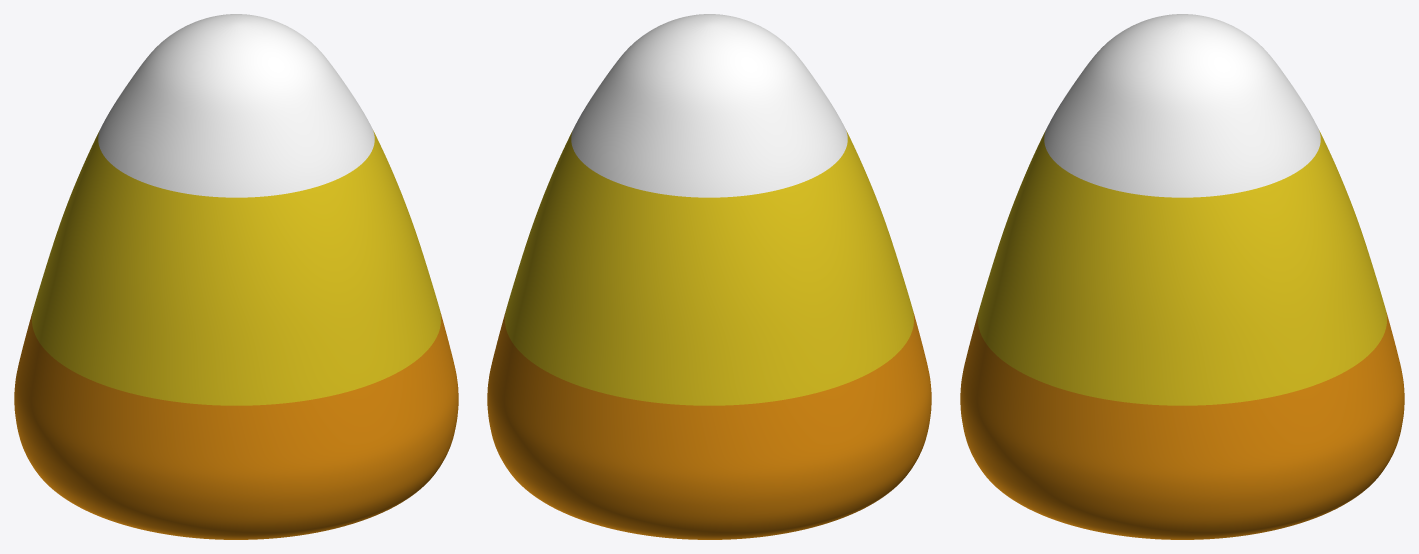
Rendered from BalitaDulce.fbx.
3 views of the same model, side by side, from view 1: azimuth 30°, elevation 25°; view 2: azimuth 150°, elevation 25°; view 3: azimuth 270°, elevation 25° (orthographic).
Parts seen in each view (by area): view 1: Cylinder; view 2: Cylinder; view 3: Cylinder.
Part boxes in pixels (bbox=[...]): Cylinder: bbox=[14, 14, 458, 539]; Cylinder: bbox=[487, 14, 931, 539]; Cylinder: bbox=[960, 14, 1404, 539].
Size of the model in its own units: 1.89 by 2.09 by 1.89.
